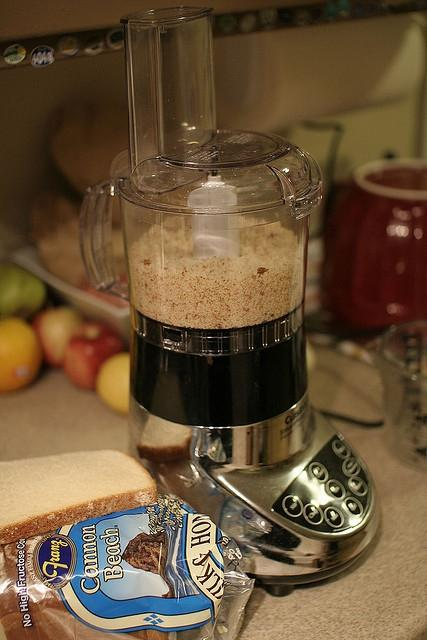apple: (62, 320, 130, 391), (33, 308, 85, 367), (1, 263, 47, 322), (97, 352, 129, 418)
